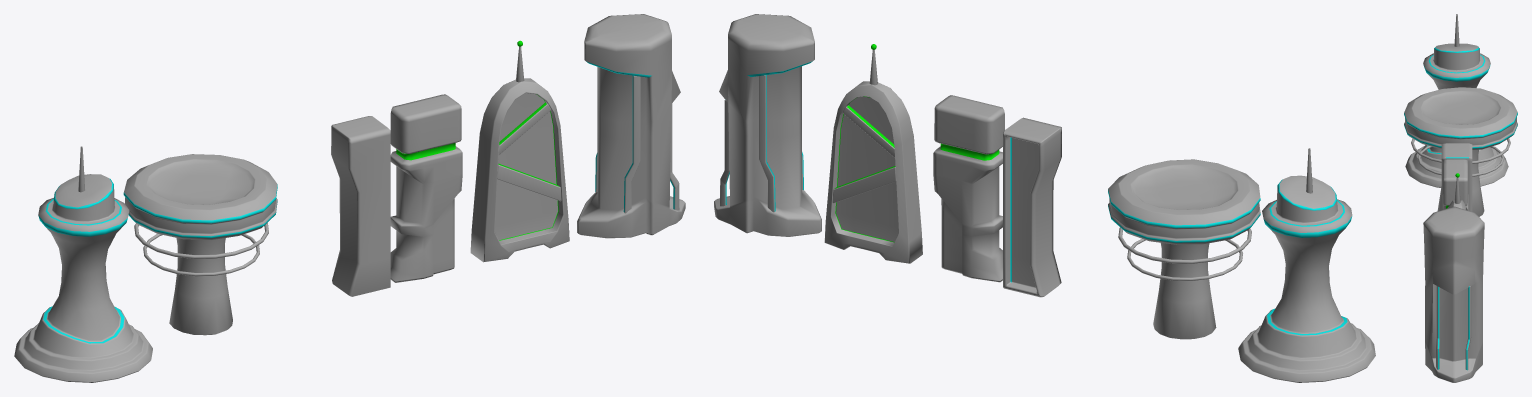
The model's file is MDL_Detailed_Buildings.fbx.
The picture shows the model from 3 angles, left to right: view 1: azimuth 30°, elevation 25°; view 2: azimuth 150°, elevation 25°; view 3: azimuth 270°, elevation 25°; orthographic projection. The views are drawn at different scales.
Parts seen in each view (by area): view 1: Building_07, Building_05, Building_06, Building_03, Building_02, Building_01; view 2: Building_07, Building_05, Building_06, Building_03, Building_02, Building_01; view 3: Building_07, Building_05, Building_06, Building_02, Building_01, Building_03.
Boxes of the visible parts, left/top/right/bottom form: Building_07: left=577, top=14, right=685, bottom=238; Building_05: left=123, top=154, right=277, bottom=335; Building_06: left=14, top=146, right=152, bottom=382; Building_03: left=470, top=40, right=569, bottom=262; Building_02: left=390, top=94, right=462, bottom=282; Building_01: left=331, top=116, right=390, bottom=296; Building_07: left=714, top=14, right=821, bottom=236; Building_05: left=1108, top=159, right=1260, bottom=339; Building_06: left=1238, top=148, right=1375, bottom=382; Building_03: left=824, top=44, right=922, bottom=263; Building_02: left=933, top=95, right=1004, bottom=282; Building_01: left=1003, top=117, right=1061, bottom=297; Building_07: left=1423, top=206, right=1484, bottom=382; Building_05: left=1404, top=87, right=1517, bottom=216; Building_06: left=1405, top=14, right=1508, bottom=187; Building_02: left=1442, top=159, right=1468, bottom=210; Building_01: left=1441, top=143, right=1472, bottom=211; Building_03: left=1448, top=173, right=1467, bottom=210.
Size of the model in its own units: 425 by 130 by 86.14.
